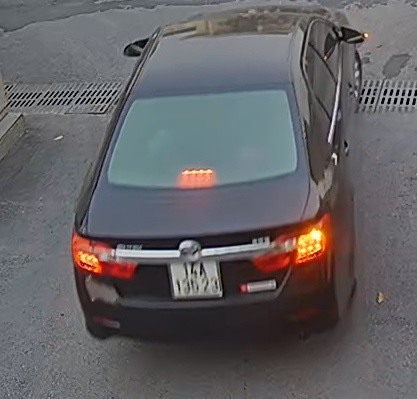vehicle plate: (160, 254, 225, 303)
